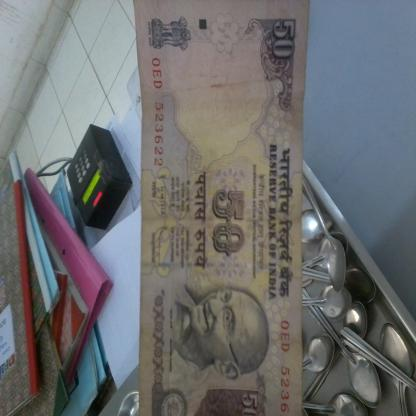Old50Front: (133, 0, 311, 416)
